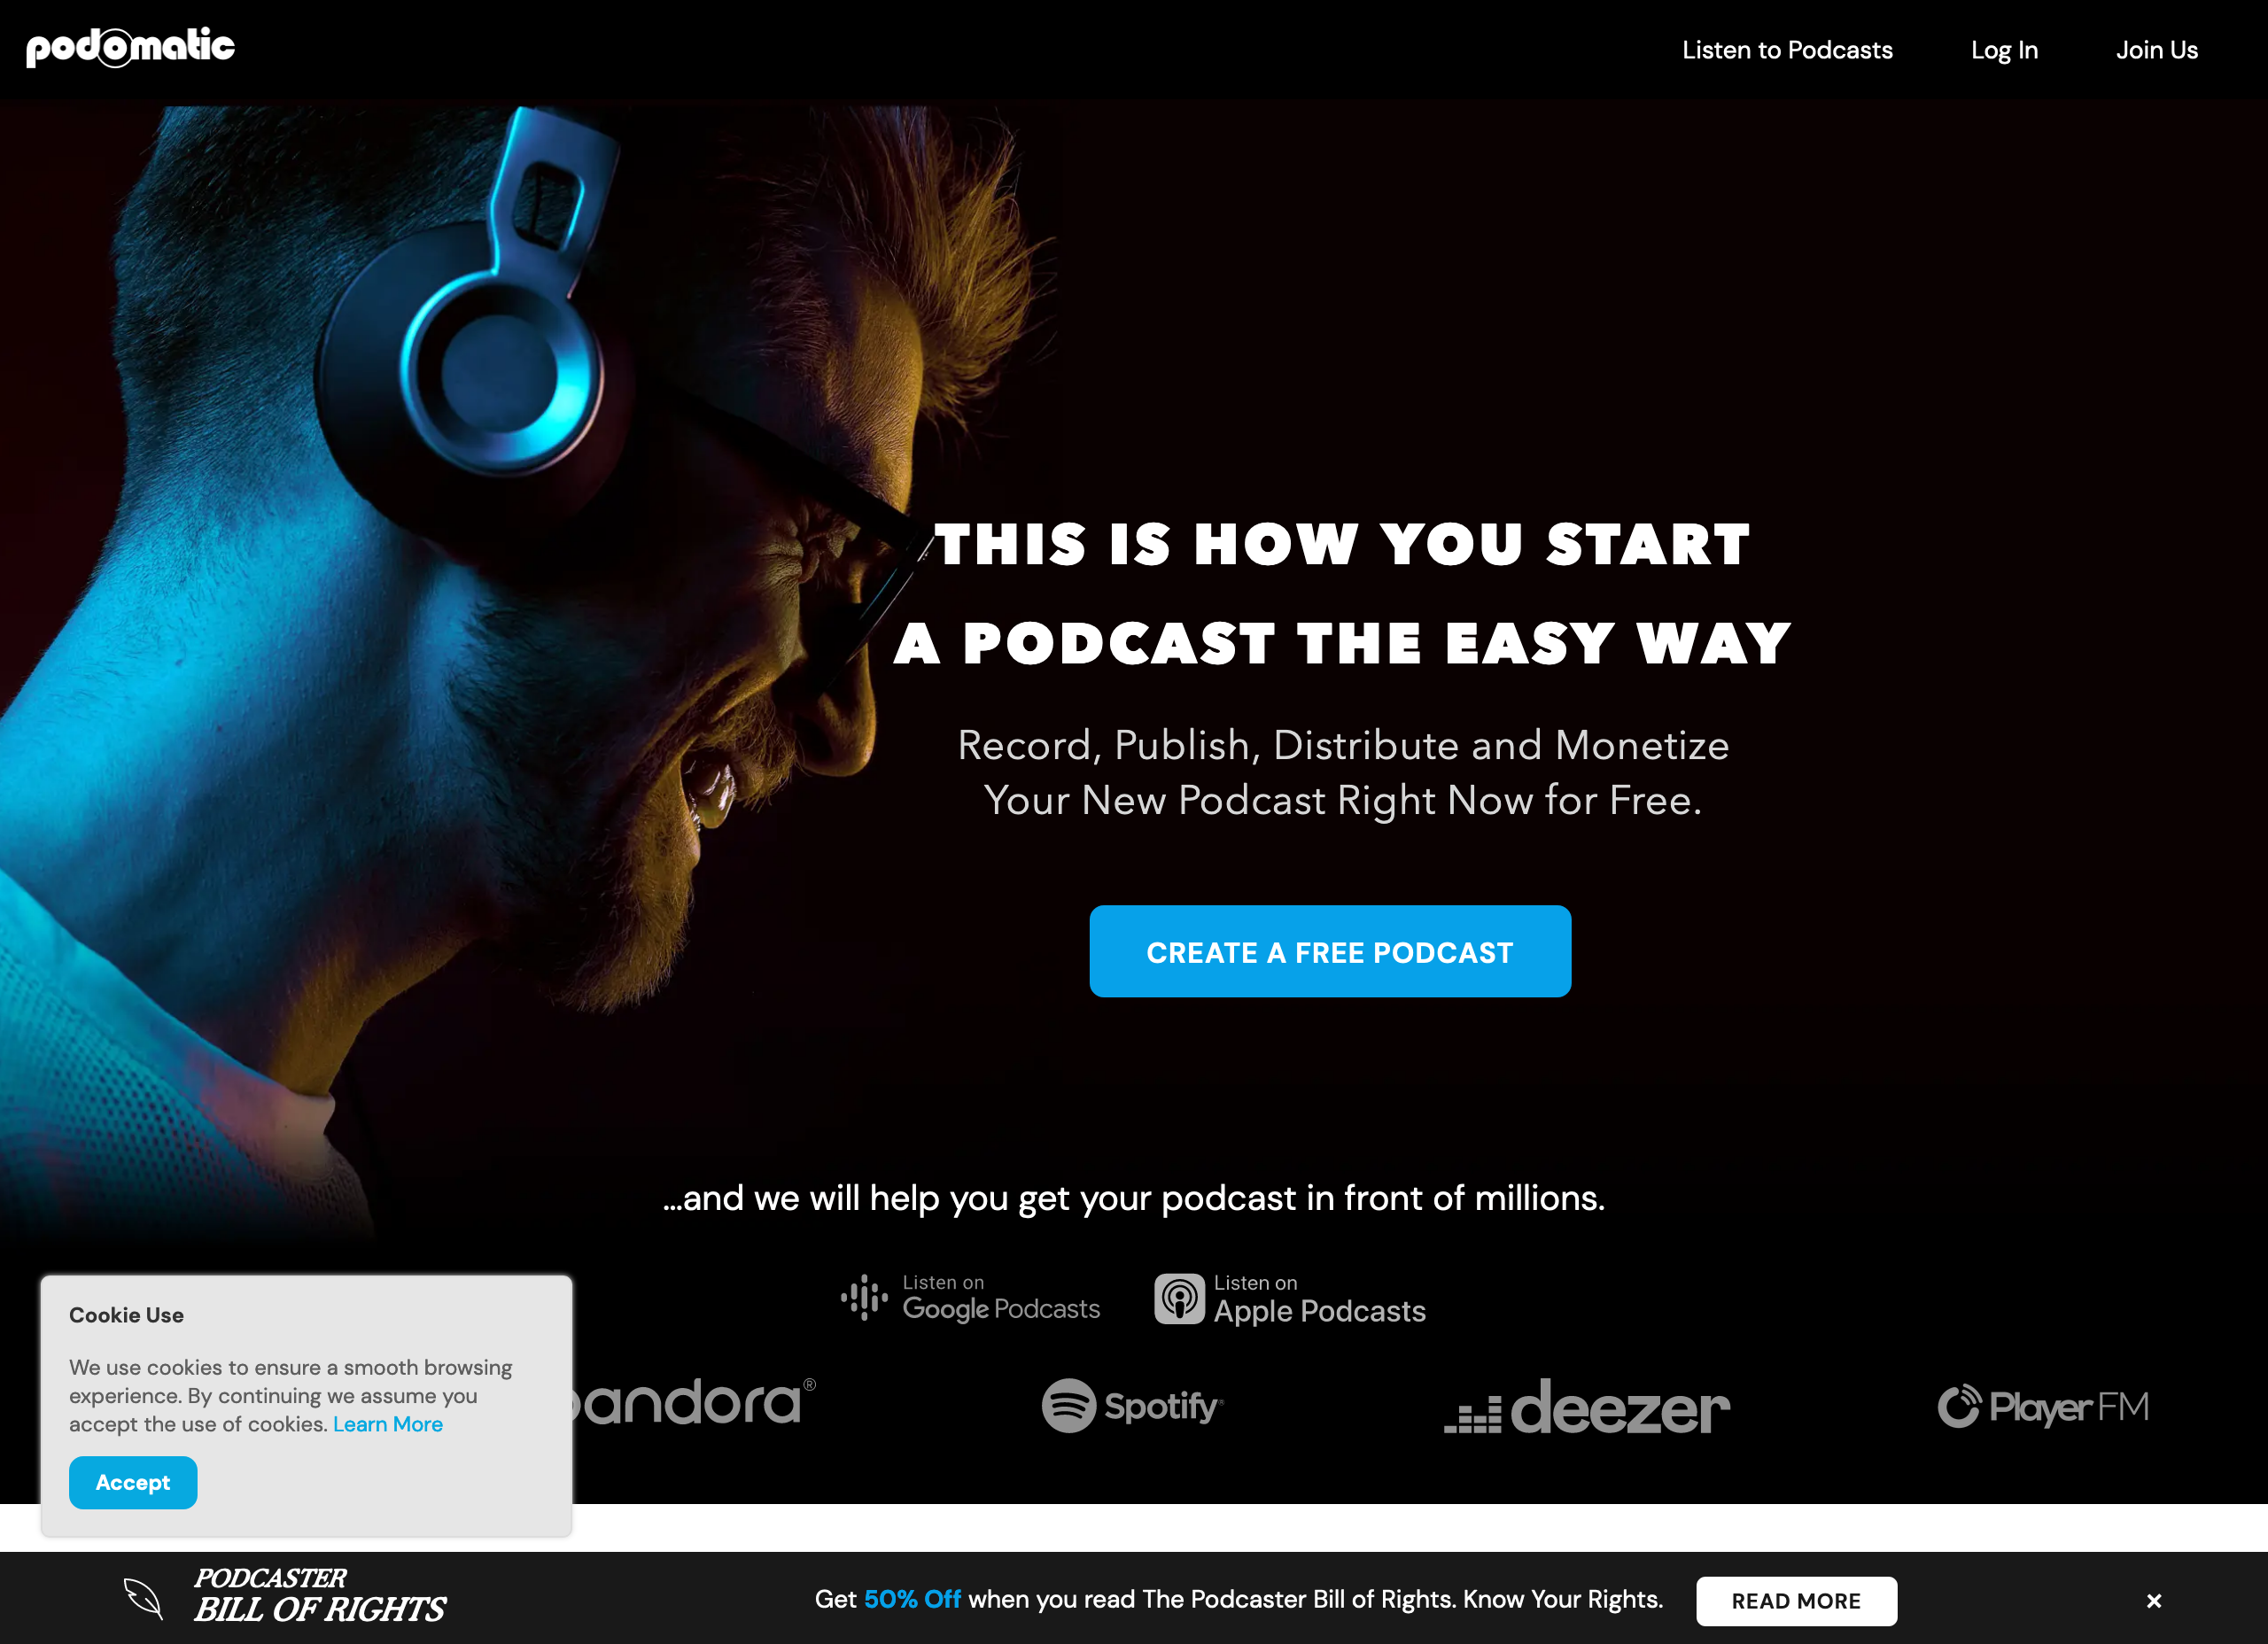Login: (1958, 26, 2060, 77)
